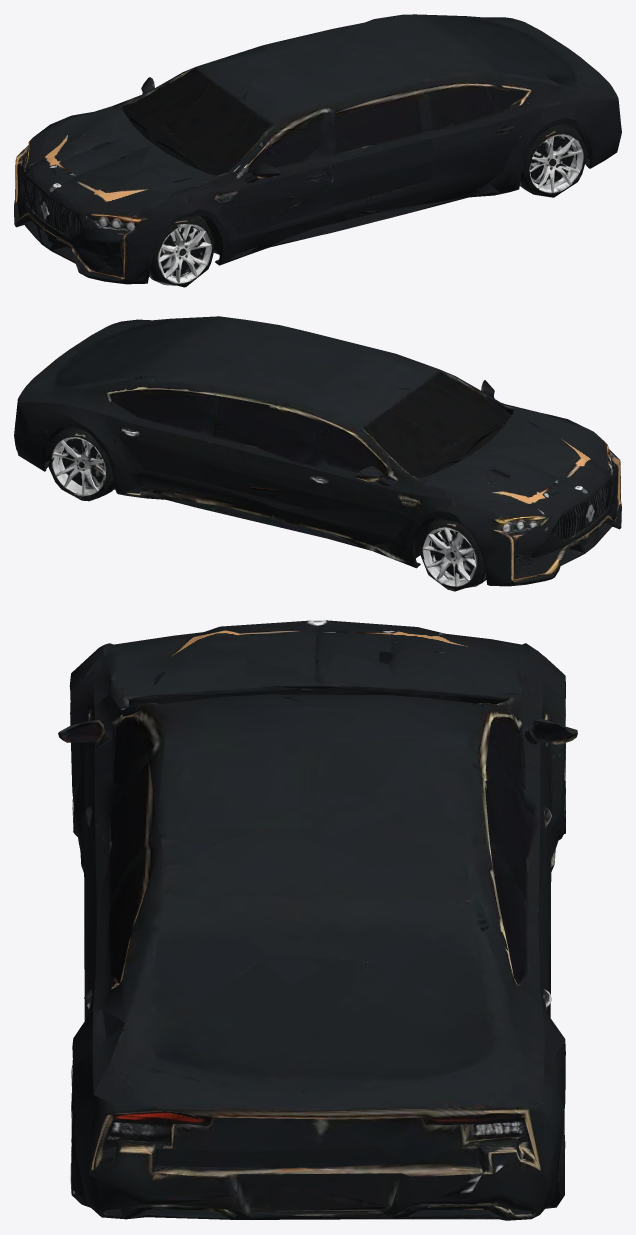
File: mx_veh_limo.glb
3 renders of one model, top to bottom at view 1: azimuth 30°, elevation 25°; view 2: azimuth 150°, elevation 25°; view 3: azimuth 270°, elevation 25°, orthographic. The views are drawn at different scales.
Size of the model in its own units: 1.9 by 0.458 by 0.8086.
1 material, 1 textured.
